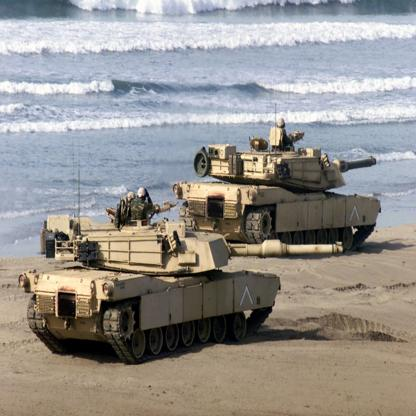Tank: (20, 192, 284, 367), (174, 114, 395, 252)
